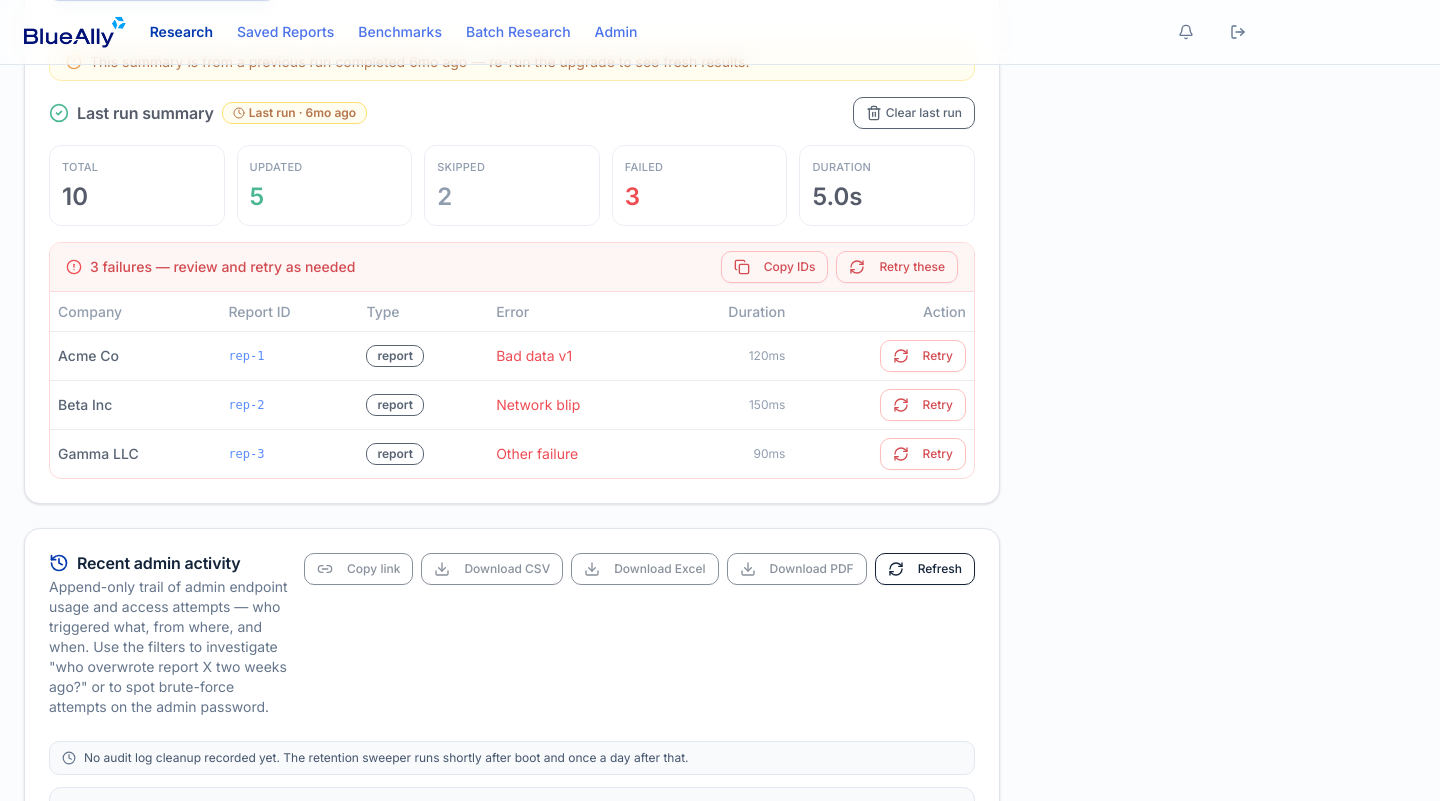
Test: AdminPanel — per-row retry preserves the failures table › updates the row's error text in place and leaves the row in the table when the per-row retry fails again
The width and height of the screenshot is (1440, 801).
(page scrolled)
Click the button "Retry" in the row of "Beta Inc" at (923, 405), box [880,389,966,421]
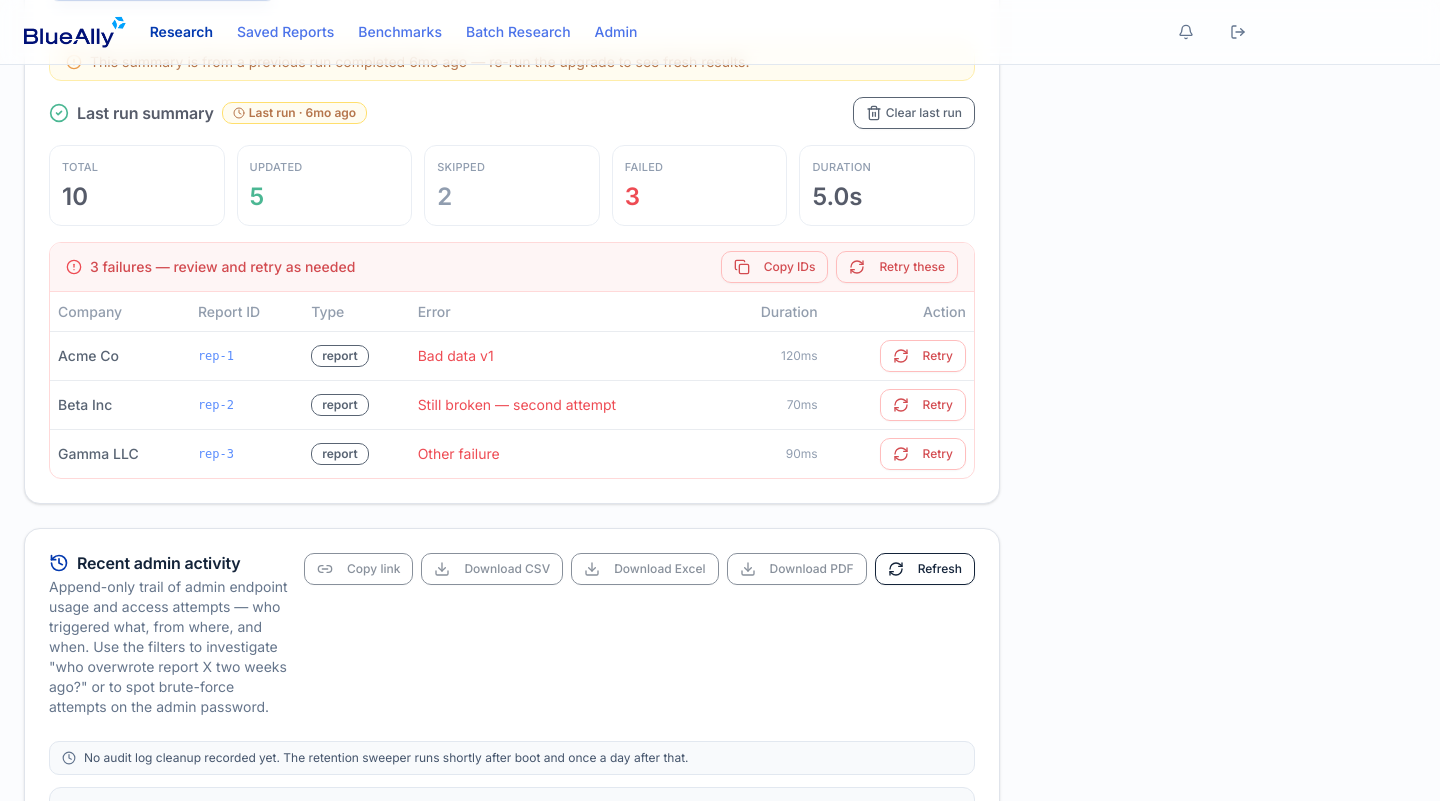
Expected: the cell "Still broken — second attempt" is shown, [410,381,720,430]
